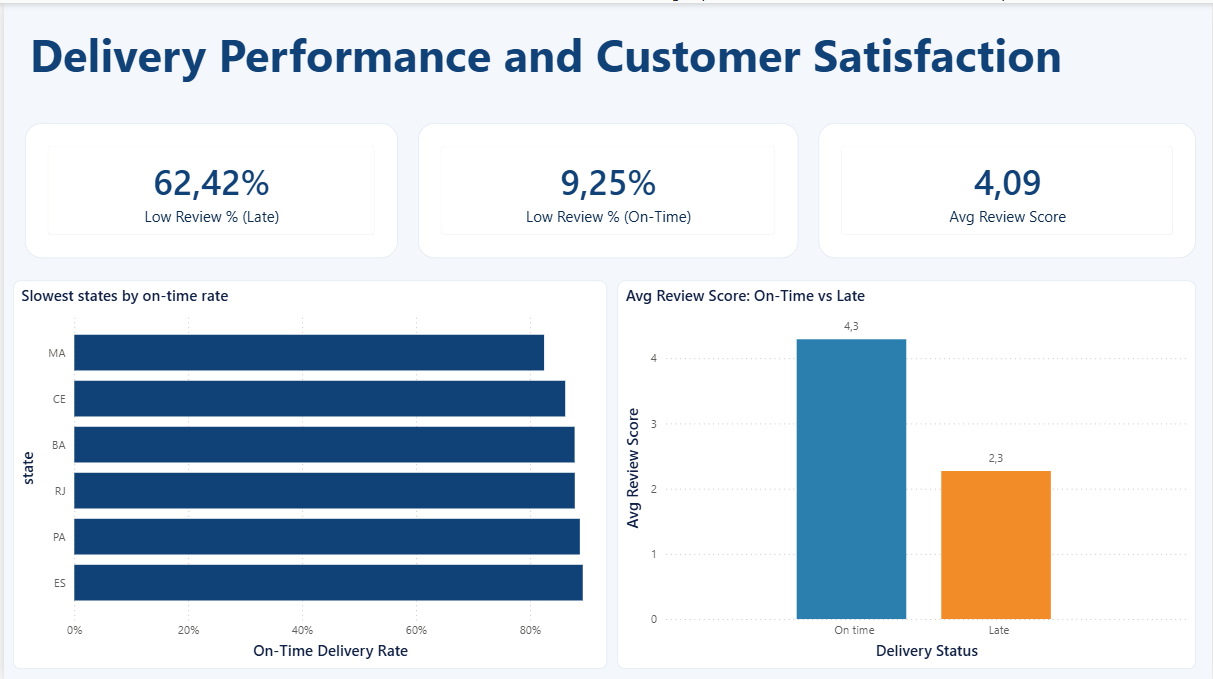

The page's visual inventory and layout, read from the dashboard file:
{"tool":"powerbi","page":{"name":"Delivery and Satisfaction","canvas":[1280,720],"ordinal":1},"visuals":[{"type":"clusteredBarChart","title":"Slowest states by on-time rate","fields":{"Y":["_Measures.On-Time Delivery Rate"],"Category":["dw dim_customer.state"]},"box":[10,295,630,411.7],"z":0},{"type":"clusteredColumnChart","title":"Avg Review Score: On-Time vs Late","fields":{"Y":["_Measures.Avg Review Score"],"Category":["dw fact_orders.Delivery Status"]},"box":[650,295,613.3,411.7],"z":1000},{"type":"cardVisual","fields":{"Data":["_Measures.Low Review % (Late)"]},"box":[21.7,126.7,395,143.3],"z":2000},{"type":"cardVisual","fields":{"Data":["_Measures.Low Review % (On-Time)"]},"box":[438.3,126.7,403.3,143.3],"z":3000},{"type":"textbox","box":[0,0,1280,115],"z":4000},{"type":"cardVisual","fields":{"Data":["_Measures.Avg Review Score"]},"box":[863.3,126.7,400,143.3],"z":5000},{"type":"textbox","box":[21.7,16.7,1140,81.7],"z":6000}]}

Visuals, with their boxes in screenshot pixels (x1, y1, x2, y2), scaled from the page's 1280x720 canvas onto the 1213x679 screenshot:
"Slowest states by on-time rate" clusteredBarChart: [x1=9, y1=278, x2=606, y2=666]
"Avg Review Score: On-Time vs Late" clusteredColumnChart: [x1=616, y1=278, x2=1197, y2=666]
cardVisual - _Measures.Low Review % (Late): [x1=21, y1=119, x2=395, y2=255]
cardVisual - _Measures.Low Review % (On-Time): [x1=415, y1=119, x2=798, y2=255]
textbox: [x1=0, y1=0, x2=1212, y2=108]
cardVisual - _Measures.Avg Review Score: [x1=818, y1=119, x2=1197, y2=255]
textbox: [x1=21, y1=16, x2=1101, y2=93]
